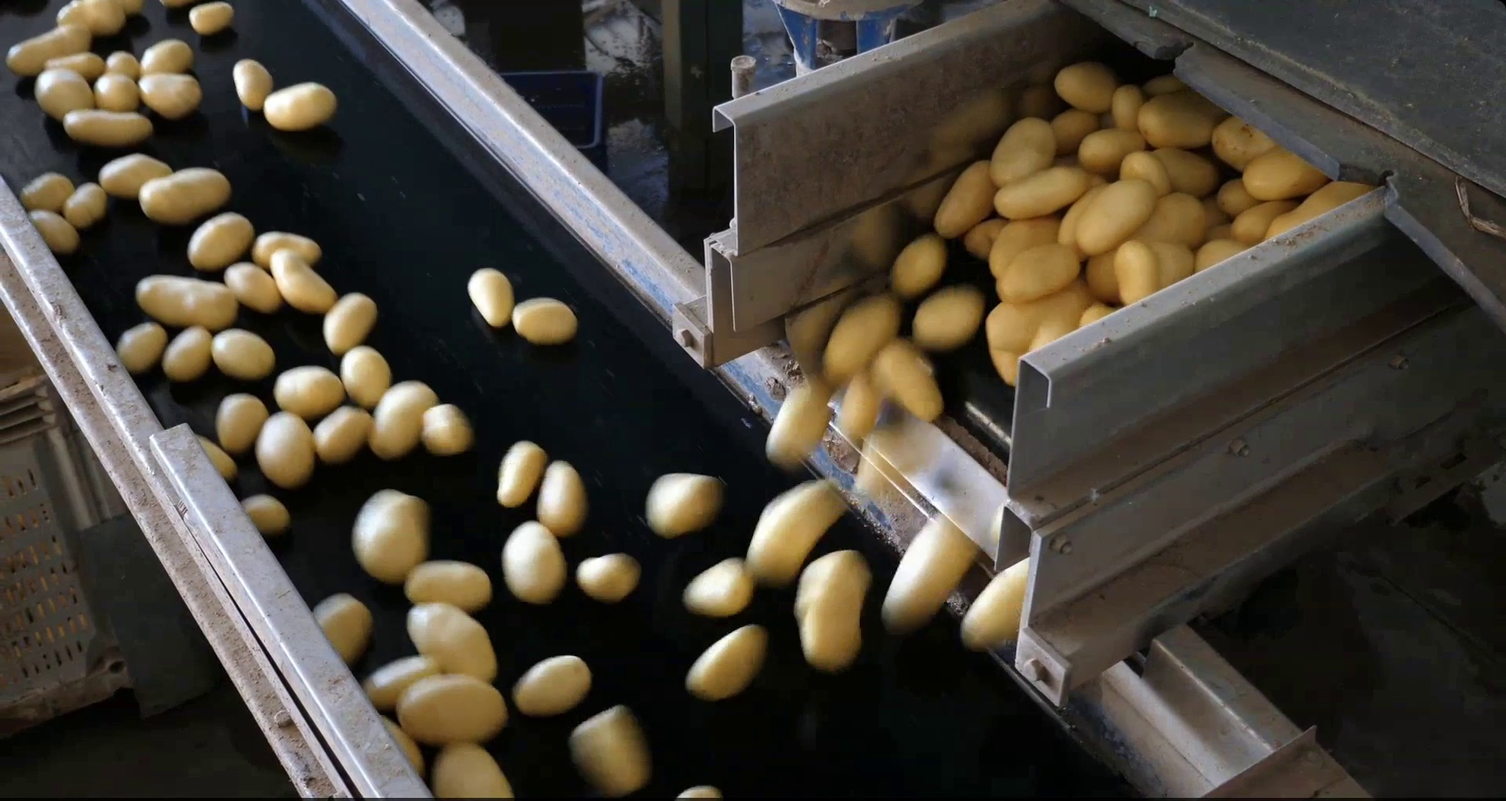potato: (876, 502, 986, 651), (737, 472, 856, 593), (1089, 187, 1207, 309), (790, 542, 875, 677), (951, 550, 1044, 662), (345, 485, 442, 589), (398, 596, 502, 690), (393, 672, 515, 752), (817, 285, 905, 390), (562, 701, 656, 799), (850, 415, 948, 509), (1257, 175, 1384, 247), (979, 276, 1107, 346), (676, 618, 776, 704), (757, 366, 838, 472), (1071, 172, 1162, 261), (133, 162, 240, 230), (130, 270, 243, 334), (634, 466, 729, 542), (871, 332, 948, 425), (981, 209, 1074, 286), (496, 515, 570, 609), (988, 158, 1095, 223), (365, 376, 444, 462), (983, 109, 1064, 192), (1236, 140, 1341, 204), (508, 649, 599, 722), (424, 735, 522, 801), (929, 154, 1003, 241), (398, 553, 497, 616), (991, 241, 1086, 306), (905, 281, 989, 353), (308, 587, 377, 672), (264, 245, 342, 319), (251, 408, 319, 492), (532, 451, 593, 543), (3, 19, 96, 79), (266, 359, 349, 426), (679, 553, 757, 624), (358, 651, 447, 713), (1206, 111, 1294, 173), (181, 207, 258, 276), (1134, 90, 1222, 150), (257, 78, 344, 132), (885, 229, 949, 302), (1060, 181, 1119, 260), (58, 105, 160, 150), (492, 433, 549, 513), (94, 148, 180, 201), (318, 285, 380, 358), (507, 292, 586, 349), (310, 402, 377, 469), (573, 549, 646, 610), (336, 340, 397, 413), (206, 324, 280, 383), (836, 357, 886, 444), (1048, 54, 1121, 112), (461, 260, 518, 333), (31, 64, 98, 126), (212, 389, 271, 457), (1108, 235, 1162, 309), (135, 68, 207, 123), (218, 258, 285, 317), (376, 709, 429, 783), (1226, 194, 1299, 247), (416, 399, 477, 462), (109, 316, 170, 379), (158, 319, 216, 385), (249, 225, 327, 273), (1115, 145, 1181, 201), (1077, 123, 1151, 172), (14, 167, 78, 218), (227, 52, 279, 114), (51, 1, 130, 40), (24, 203, 81, 256), (1045, 103, 1103, 154), (139, 35, 198, 85), (1188, 234, 1257, 276), (59, 177, 112, 231), (1105, 78, 1157, 132), (193, 429, 242, 486), (239, 491, 294, 541), (89, 67, 147, 114), (1210, 173, 1268, 220), (1152, 238, 1198, 292), (961, 212, 1013, 259), (979, 343, 1028, 392), (38, 49, 109, 82), (184, 1, 242, 38), (1027, 314, 1080, 353), (103, 45, 145, 86), (1078, 300, 1119, 335), (1136, 74, 1190, 96), (669, 782, 728, 801), (1204, 218, 1234, 244), (1199, 193, 1224, 223), (111, 1, 151, 14), (155, 1, 188, 11)
